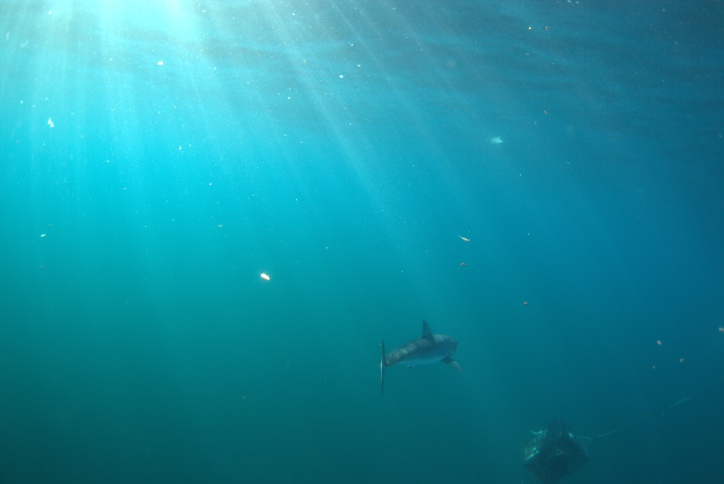Mako: (372, 308, 476, 405)
